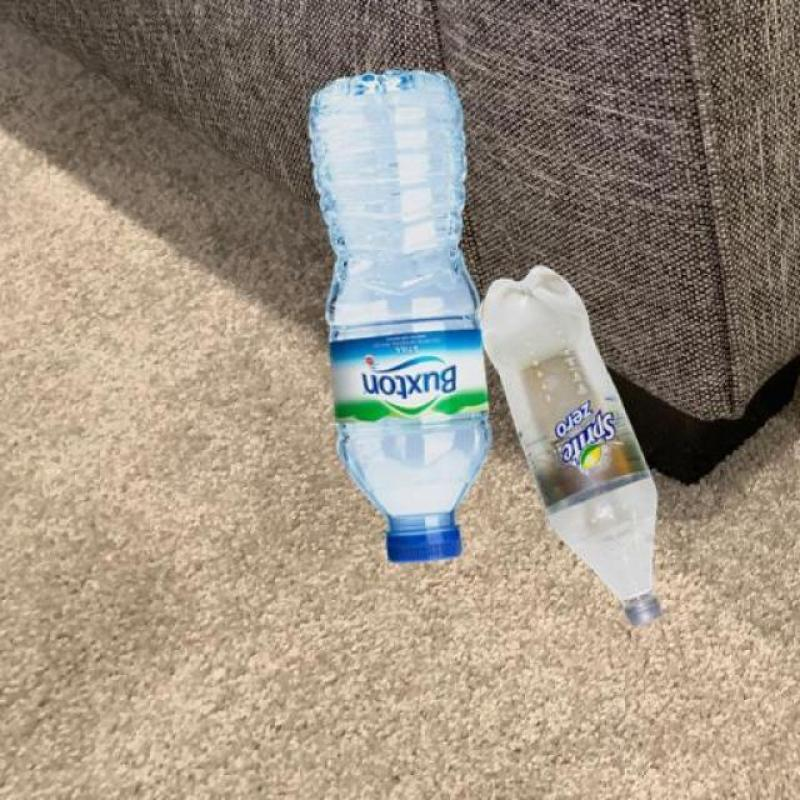botella: (307, 69, 488, 556), (474, 267, 666, 631)
